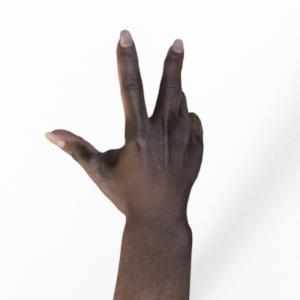scissors: (46, 30, 203, 300)
